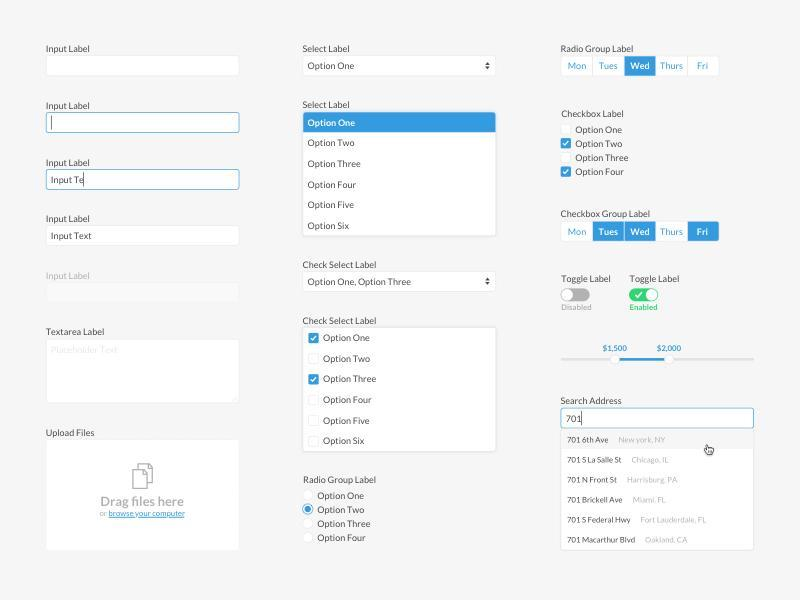button: (48, 440, 241, 552)
checkbox: (561, 222, 720, 243), (308, 436, 321, 449), (307, 354, 321, 366), (308, 375, 321, 387), (308, 395, 320, 408), (560, 138, 573, 150), (561, 152, 573, 165), (561, 125, 575, 136), (309, 334, 321, 345), (310, 416, 320, 427)
dropdown: (303, 271, 496, 294), (304, 57, 497, 76)
input: (562, 409, 755, 552), (304, 113, 499, 239), (48, 340, 241, 404), (47, 56, 241, 78), (47, 170, 241, 192), (47, 282, 241, 304), (47, 113, 241, 134), (47, 226, 240, 246)
label: (302, 474, 379, 488), (561, 209, 654, 220), (45, 326, 110, 340), (560, 108, 628, 121), (302, 316, 379, 327), (303, 260, 378, 271), (561, 44, 636, 55), (561, 396, 625, 408), (321, 373, 379, 386), (322, 415, 373, 429), (321, 394, 375, 407), (44, 427, 97, 440), (573, 139, 628, 151), (575, 125, 625, 138), (574, 154, 631, 165), (301, 100, 353, 112), (317, 534, 368, 546), (562, 274, 613, 286), (303, 43, 353, 55), (629, 275, 683, 286), (316, 492, 369, 503), (323, 334, 371, 346), (316, 506, 368, 517), (45, 100, 92, 112), (46, 157, 93, 169), (575, 167, 626, 178), (317, 520, 373, 530), (323, 436, 366, 449), (46, 44, 92, 56), (46, 214, 92, 226), (323, 355, 373, 366), (46, 272, 91, 282), (656, 344, 686, 354), (603, 344, 629, 354)
radio: (561, 57, 721, 78), (302, 490, 315, 503), (302, 504, 315, 517), (302, 518, 315, 530), (302, 532, 315, 544)
slider: (560, 355, 757, 365)
switch: (558, 287, 596, 304), (627, 288, 664, 304)
